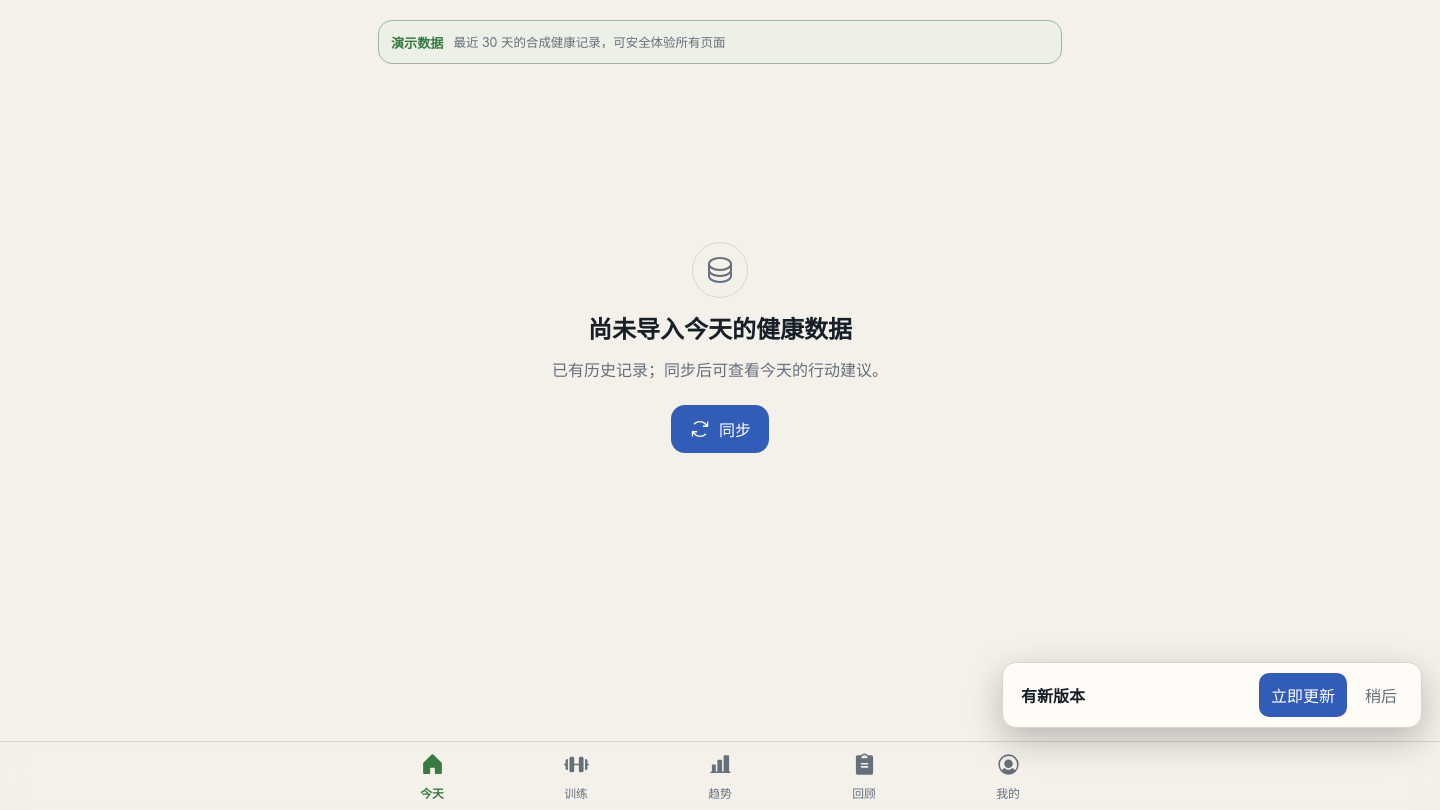
Scenario: starts on Today with clearly labelled demo data and changes destination through the bottom navigation
expect the text "演示数据" is shown: met, box [391,32,444,52]
expect the heading "尚未导入今天的健康数据" is shown: met, box [588,315,852,344]
What coordinates should you click on to do the following:
click the button "训练"
I would click on:
 (576, 776)
Its box is [504,742,648,809].
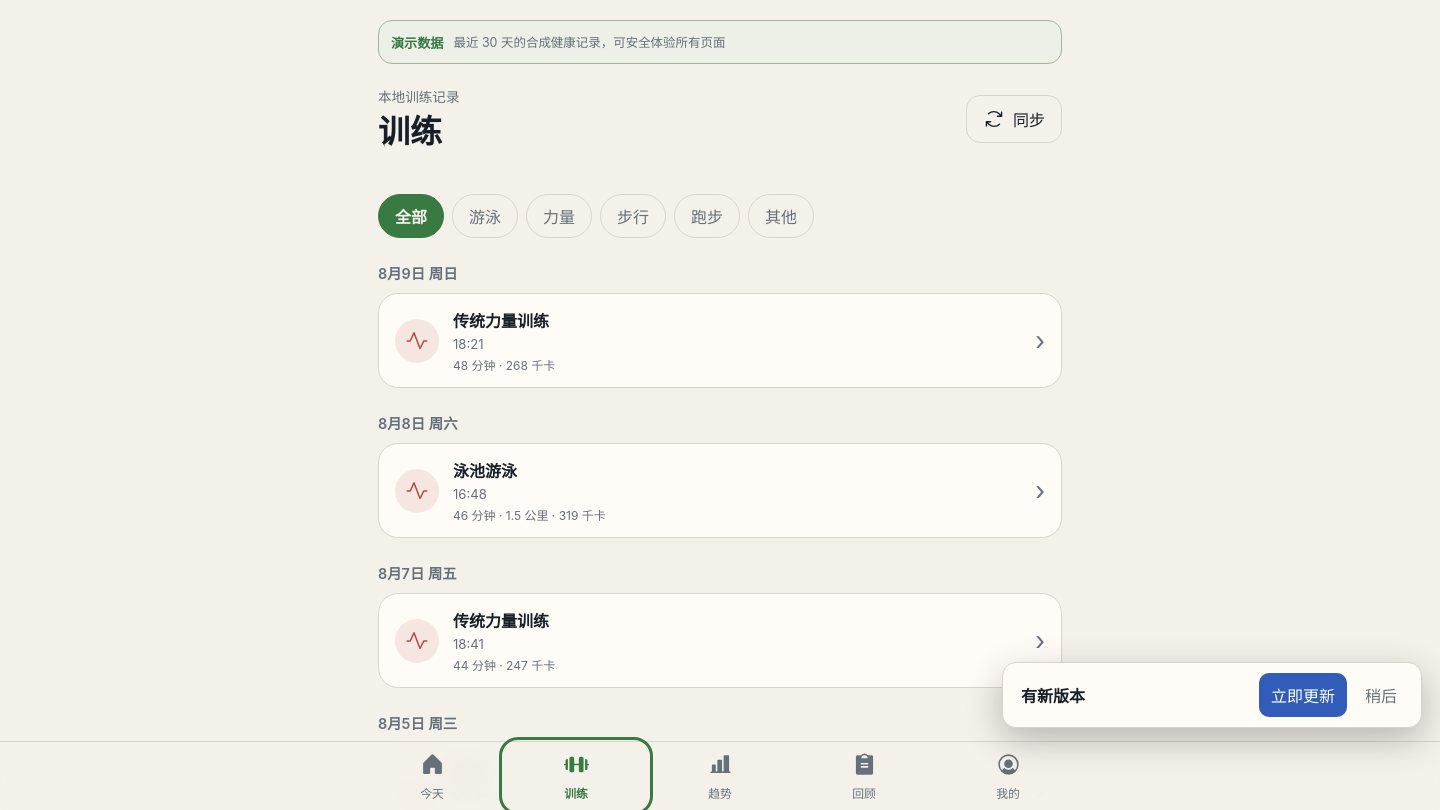
expect the heading "训练" is shown: met, box [378,112,442,151]
